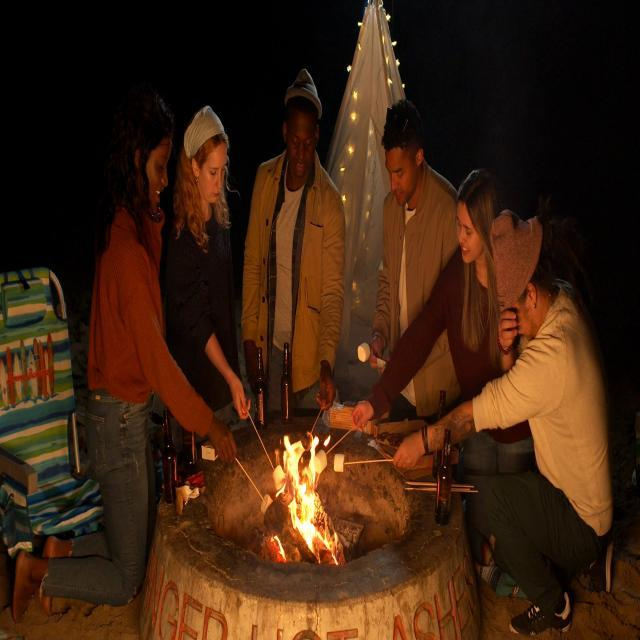Fire: (266, 431, 338, 558)
